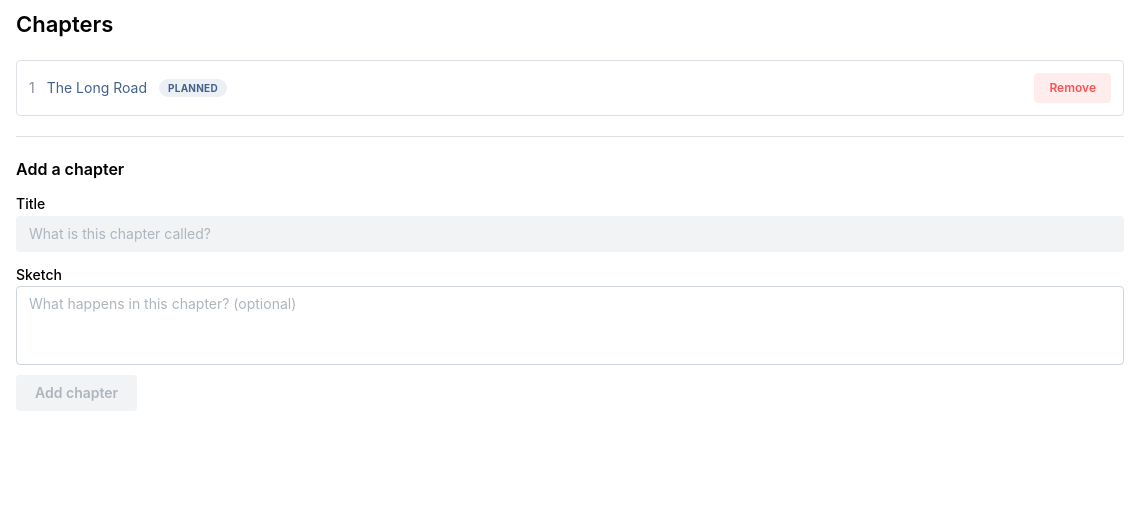
Scenario: ChaptersPage — adding a chapter › DoD-6: a refused add surfaces the server's message and leaves BOTH drafts intact
Type "A chapter as the author typed it" into the field labelled "Title".
click(570, 234); type("A chapter as the author typed it")  # box [16, 216, 1124, 252]
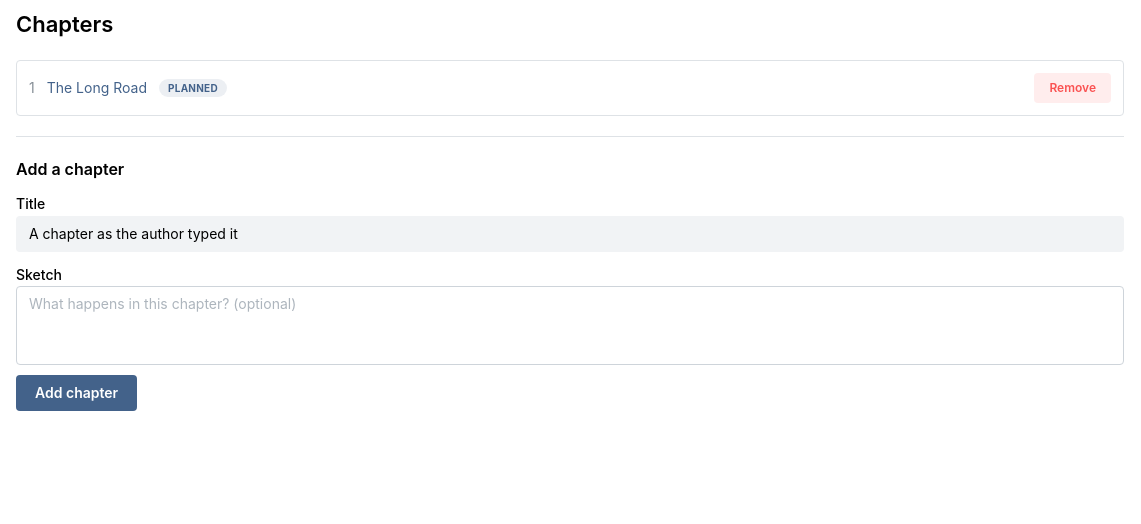
Type "Two brothers meet on the ice and neither speaks." into the text box labelled "Sketch".
click(570, 326); type("Two brothers meet on the ice and neither speaks.")  # box [16, 286, 1124, 365]
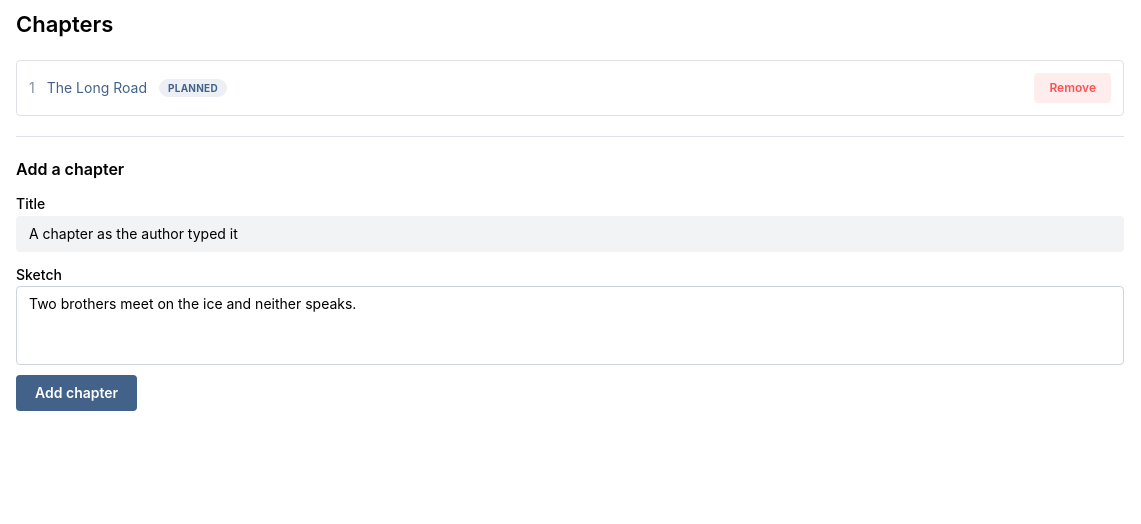
Click the button "Add chapter".
click(77, 393)  # box [16, 375, 137, 411]
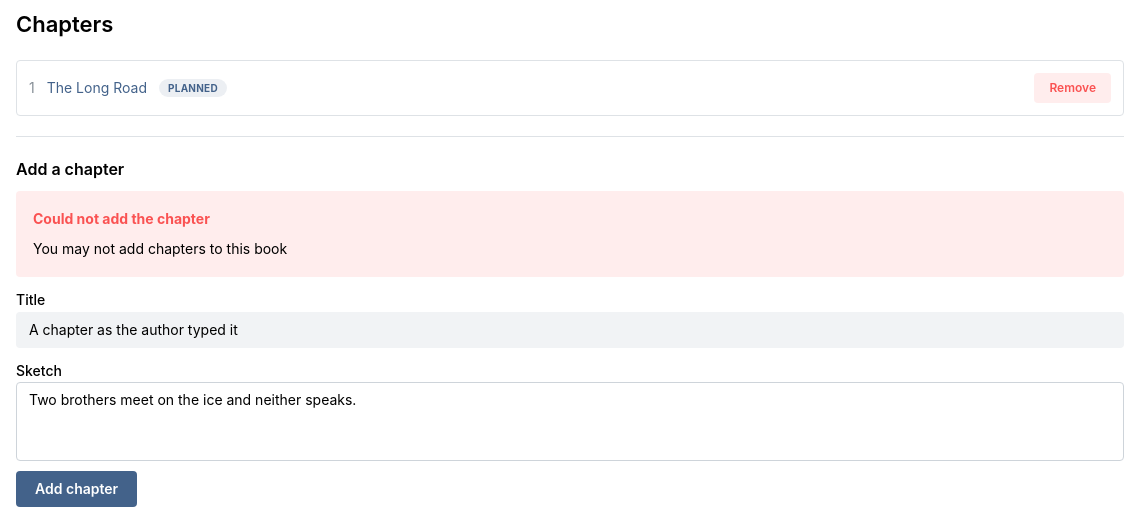
expect the text "You may not add chapters to this book" is shown: met, box [33, 240, 287, 258]
